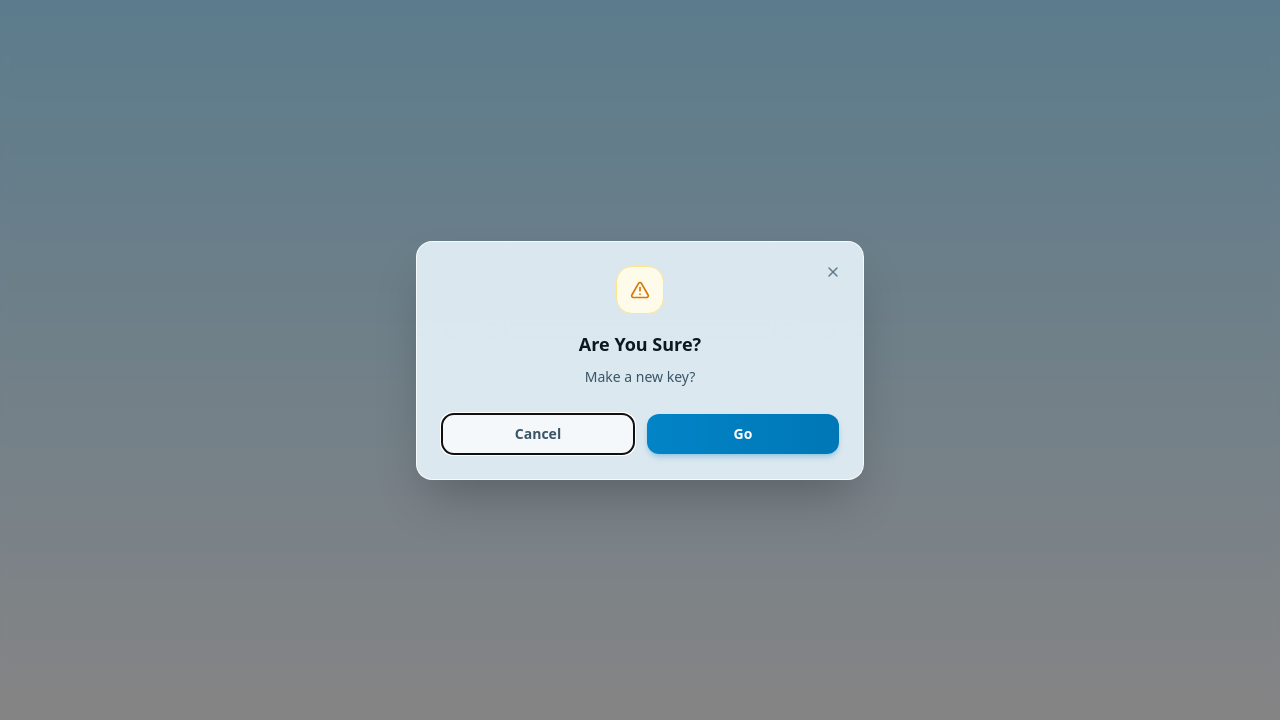
Scenario: ConfirmationModal confirming › disables Confirm while an async confirm runs, and enables it again after
The width and height of the screenshot is (1280, 720).
Later steps or results of the test are not shown.
Click the button "Go" at (743, 433), box [647,413,839,453]
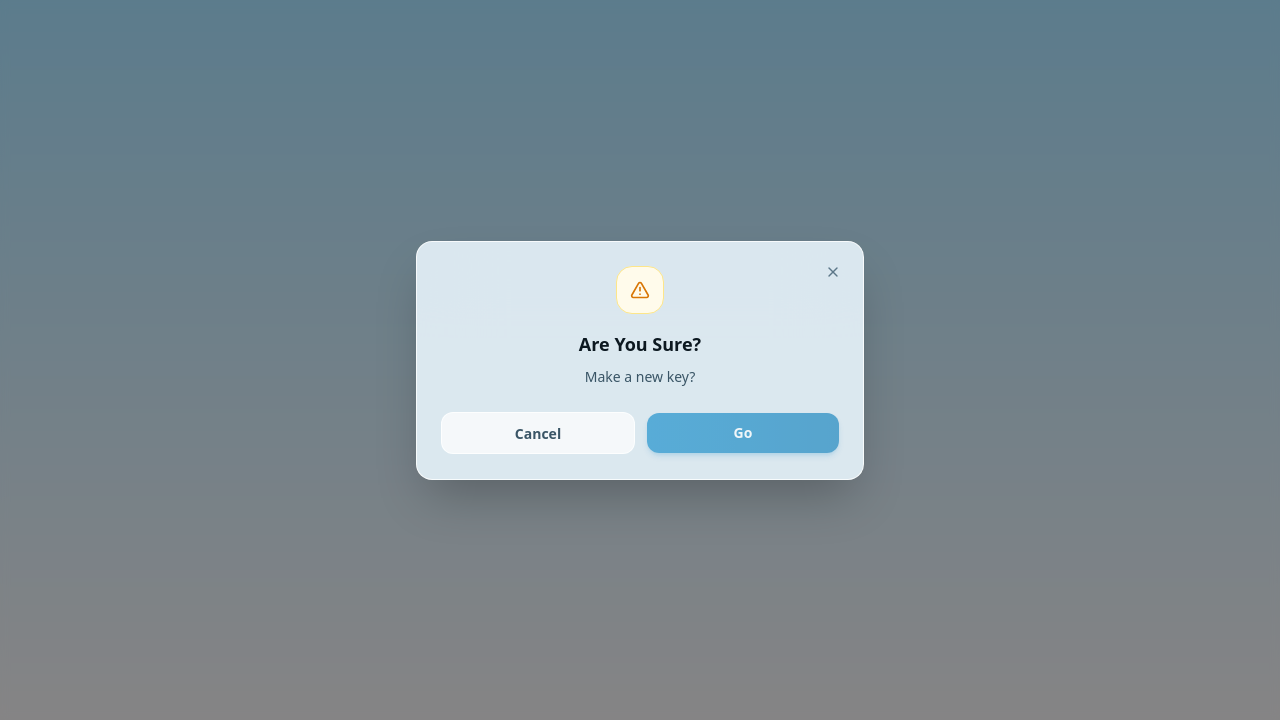
Click the button "Go" at (743, 433), box [647,413,839,453]
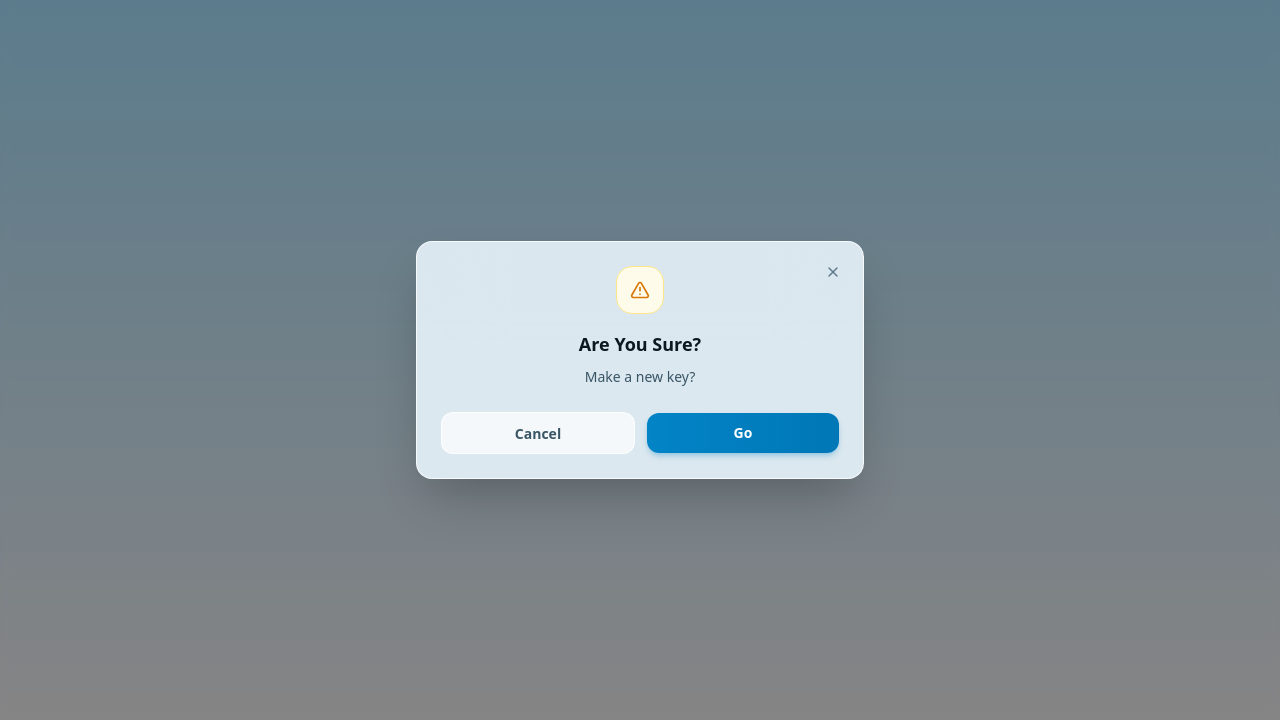
Expected: the button "Go" is enabled, [647,413,839,453]
